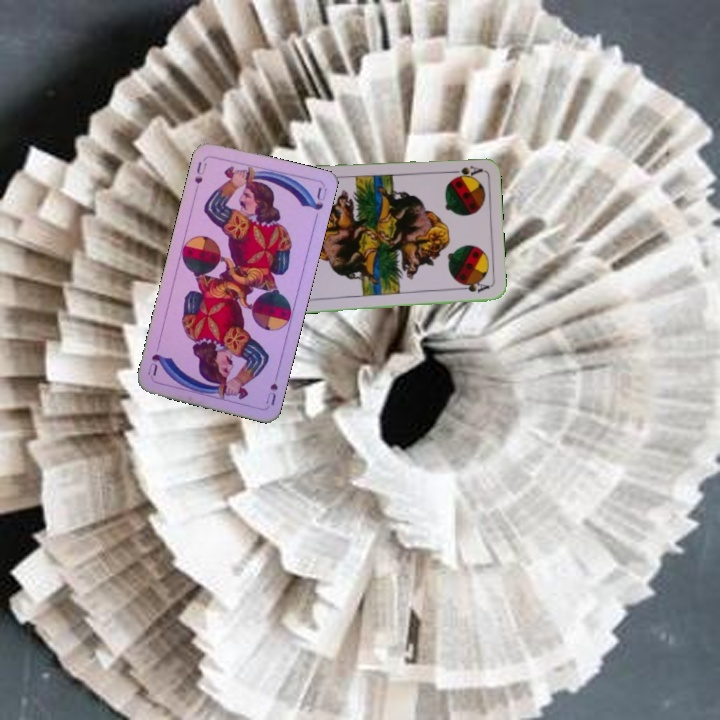SA: (444, 161, 484, 180)
SU: (190, 155, 210, 195), (262, 378, 280, 408)
